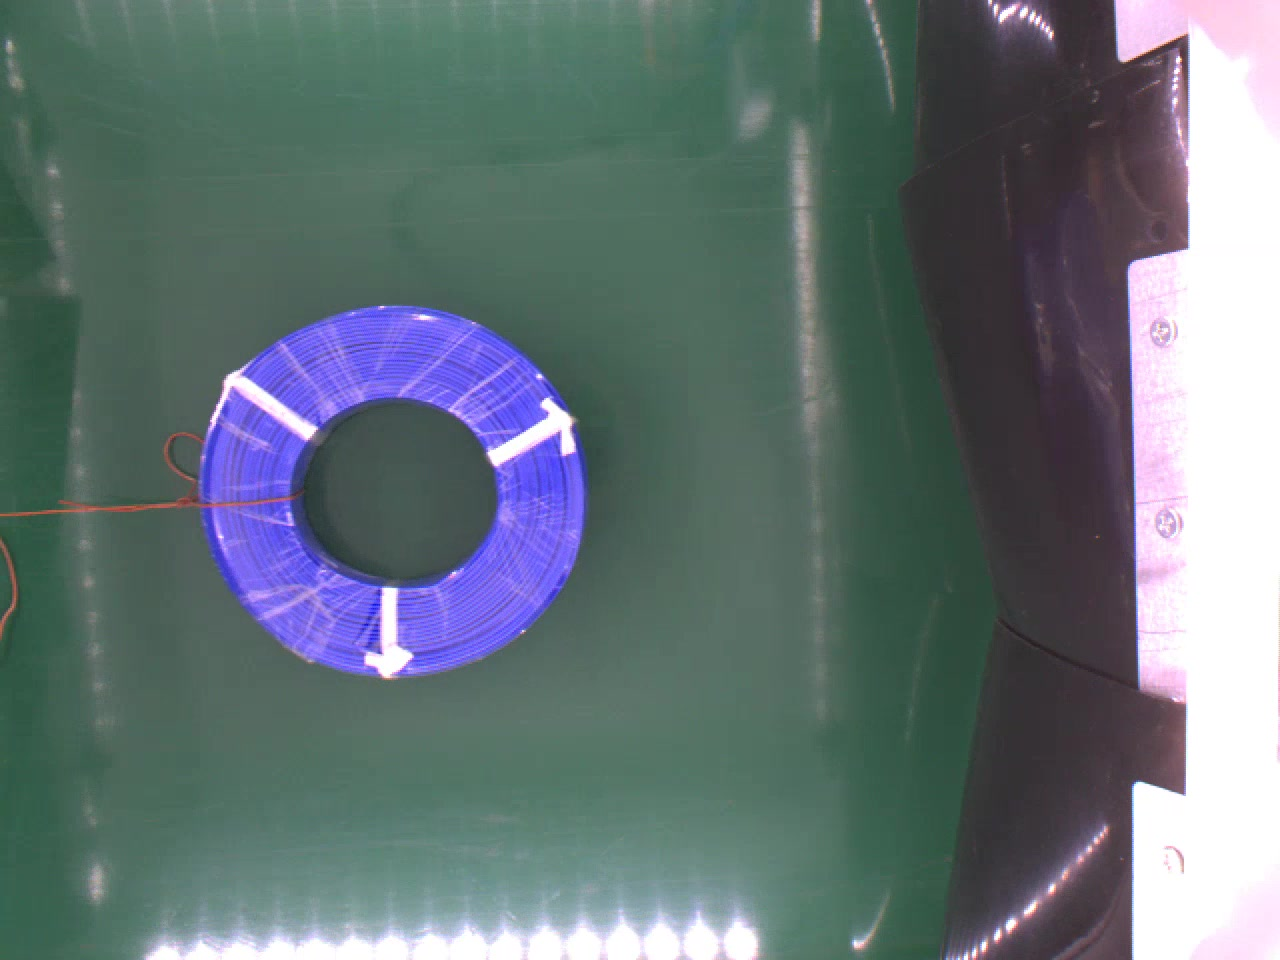blue: (198, 301, 589, 678)
